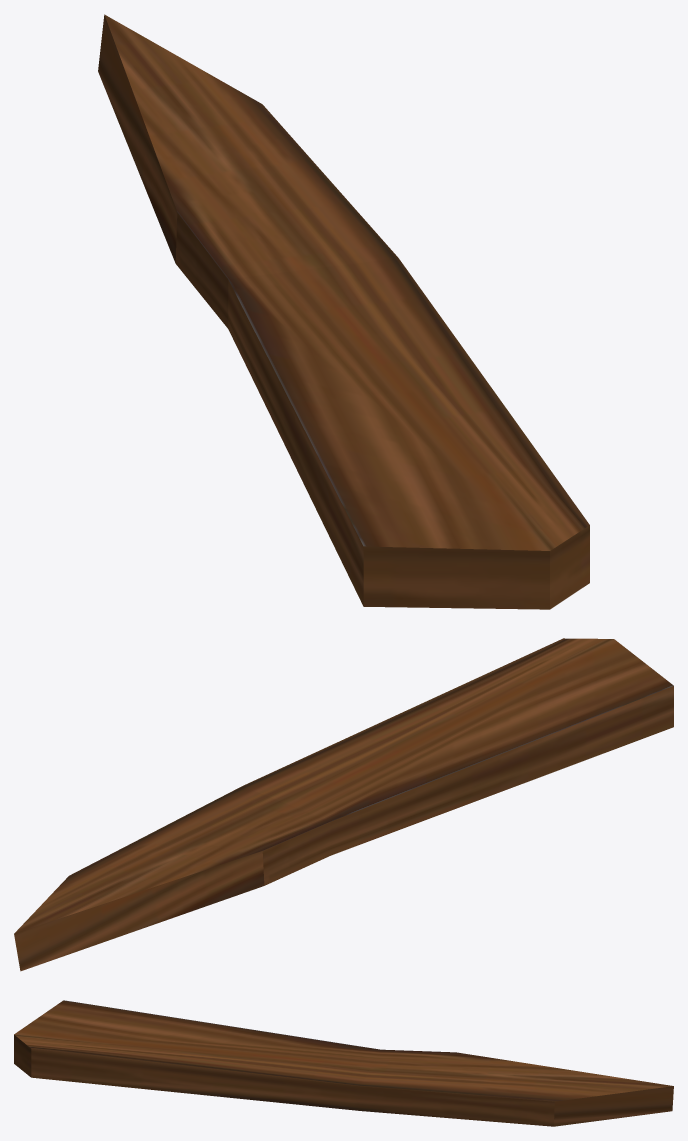
File: WoodLog1.fbx
3 views of the same model, one above another, from view 1: azimuth 30°, elevation 25°; view 2: azimuth 150°, elevation 25°; view 3: azimuth 270°, elevation 25° (orthographic). The views are drawn at different scales.
Visible parts, largest first — view 1: WoodLog1.001; view 2: WoodLog1.001; view 3: WoodLog1.001.
Boxes of the visible parts, x1,y1,x2,y2 form: WoodLog1.001: (98, 14, 589, 609); WoodLog1.001: (14, 638, 673, 971); WoodLog1.001: (14, 1000, 673, 1126).
Bounding box in the file's own units: 0.3478 × 0.0552 × 1.02.
1 material, 1 textured.
